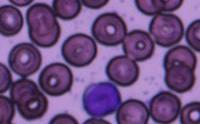L: (82, 80, 122, 118)
